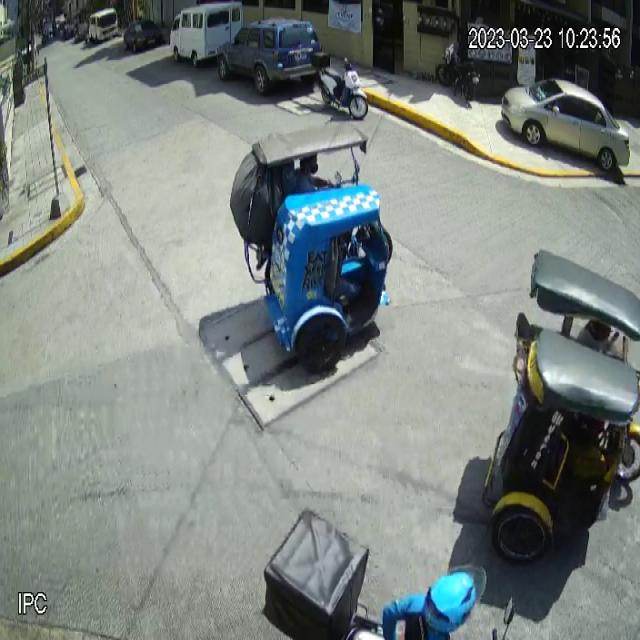Car: (500, 78, 630, 174), (218, 17, 324, 99)
Motorcycle: (312, 48, 369, 120)
Tricycle: (479, 247, 640, 561), (228, 121, 394, 371)
Van: (170, 1, 245, 67)
